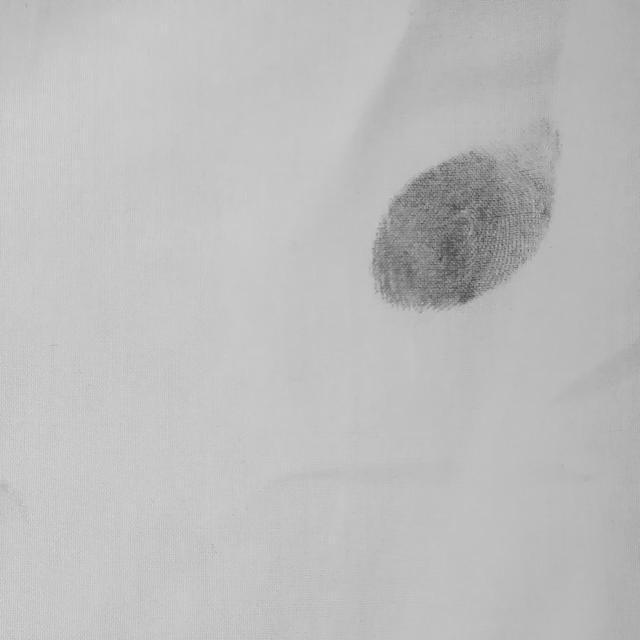Stain: (366, 116, 562, 314)
